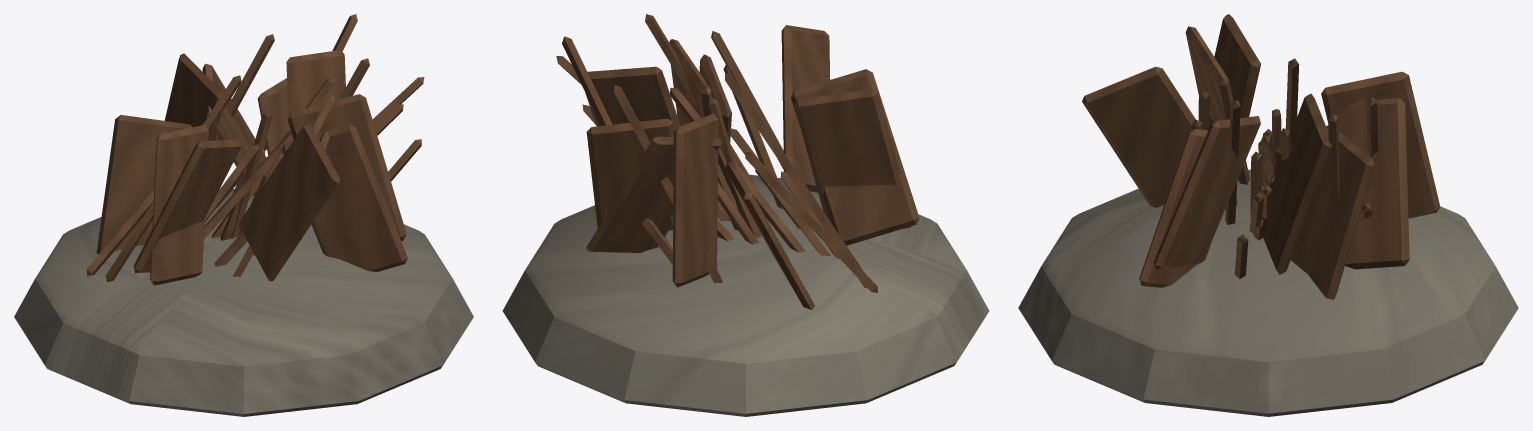
The model's file is WK_VEG_SALTBUSH_A_01.glb.
3 renders of one model, left to right at view 1: azimuth 30°, elevation 25°; view 2: azimuth 150°, elevation 25°; view 3: azimuth 270°, elevation 25°, orthographic. The views are drawn at different scales.
Visible parts, largest first — view 1: WK_VEG_SALTBUSH_A_01; view 2: WK_VEG_SALTBUSH_A_01; view 3: WK_VEG_SALTBUSH_A_01.
Boxes of the visible parts, box(x1,y1,x2,y2) form: WK_VEG_SALTBUSH_A_01: box(14, 14, 473, 416); WK_VEG_SALTBUSH_A_01: box(502, 14, 989, 416); WK_VEG_SALTBUSH_A_01: box(1018, 14, 1518, 416).
Size of the model in its own units: 0.891 by 0.5359 by 0.891.
2 materials, 2 textured.
